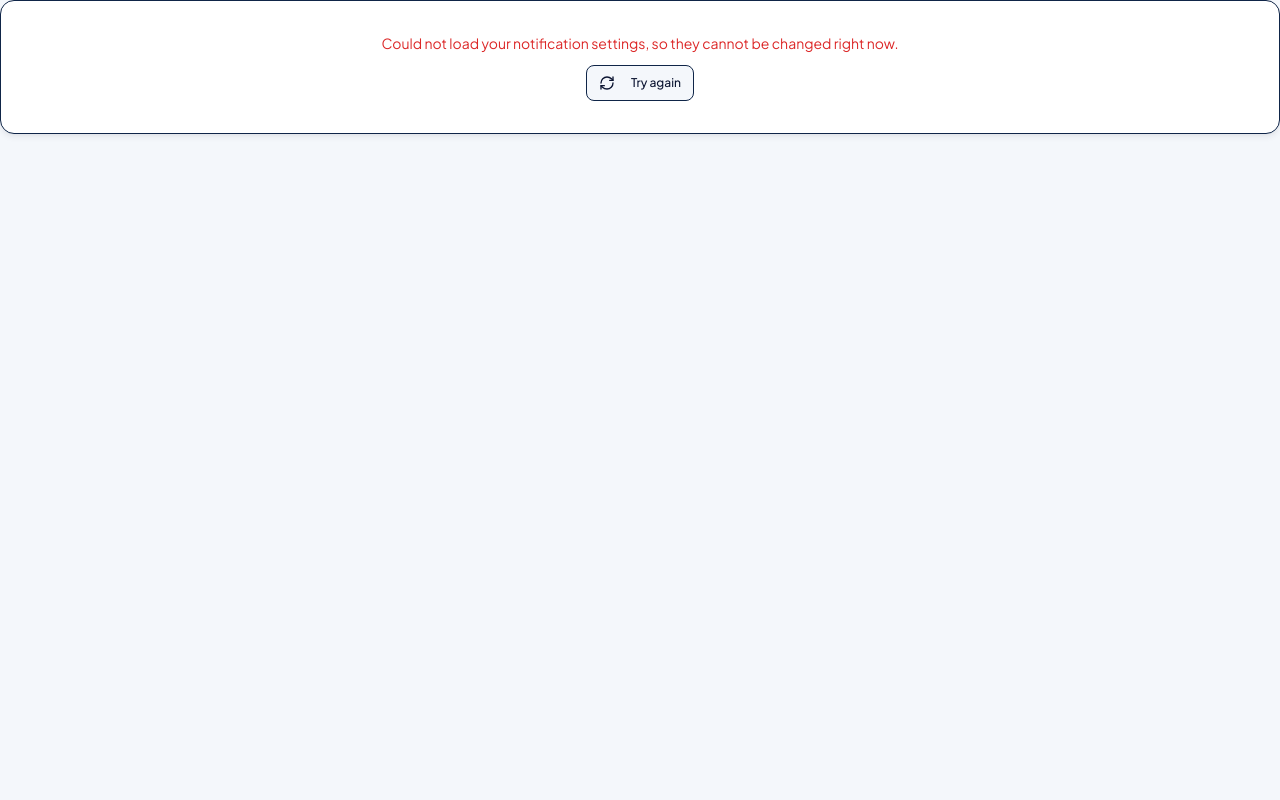
NotificationPreferences › shows an error with Try again after a failed load, and no Save that could overwrite the real settings
Expected: the message shows "Could not load your notification settings", [382,34,898,52]
Expected: the button "Save Preferences" is not shown
Click the button "Try again": x=640, y=83 [586,65,694,101]
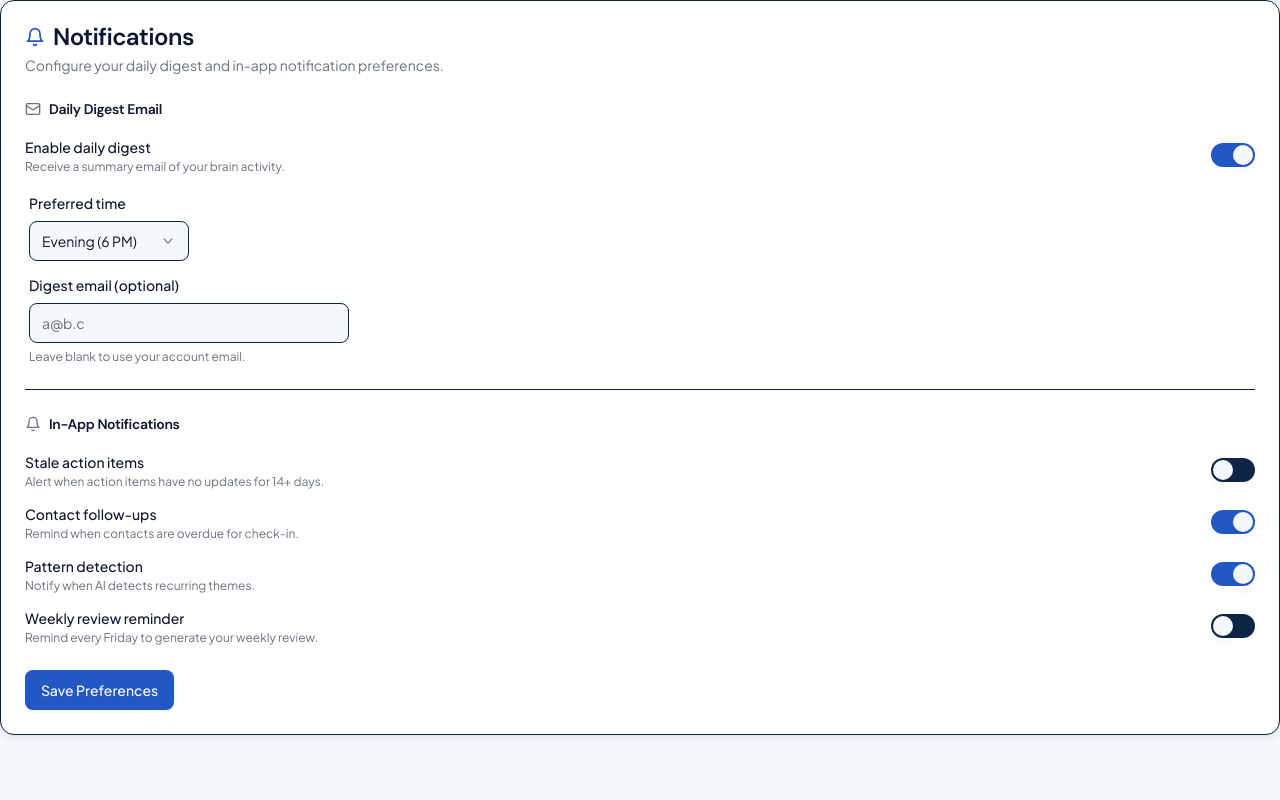
Expected: the switch named "Enable daily digest" in the row of "Enable daily digest" is checked, [1211,143,1255,167]
Expected: the switch named "Stale action items" in the row of "Stale action items" is not checked, [1211,458,1255,482]
Expected: the switch named "Weekly review reminder" in the row of "Weekly review reminder" is not checked, [1211,614,1255,638]
